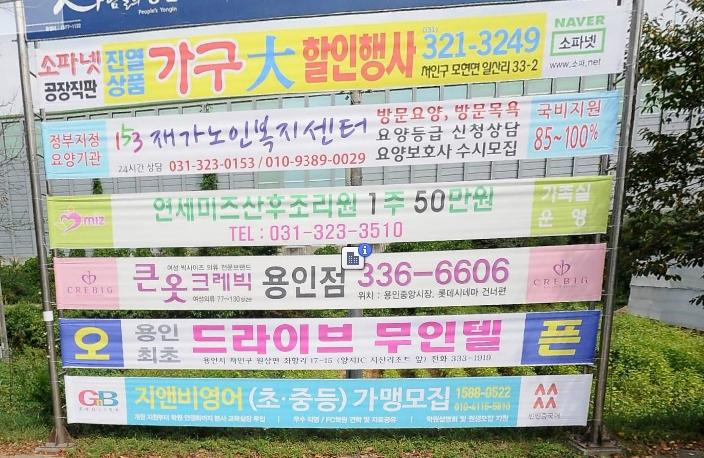banner: (37, 2, 638, 116), (43, 86, 641, 180), (25, 165, 642, 254), (34, 235, 632, 310), (45, 370, 619, 441), (47, 307, 634, 375)
